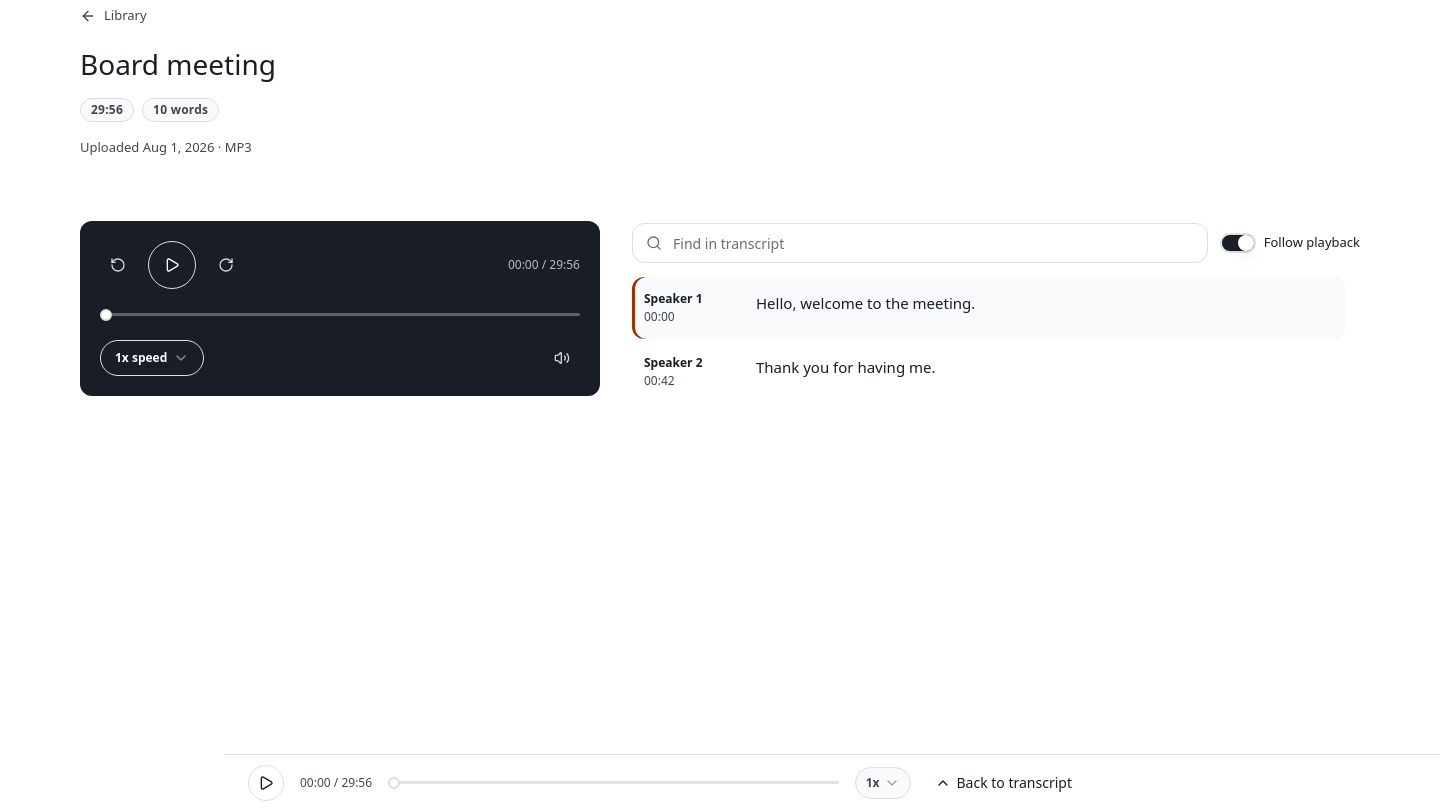
Test case: SessionReaderPage — transcript and transport › reports a seek to the rest of the page even inside the throttle window
Click the button "Speaker 2 00:42 Thank you for having me.": (673, 363) 632,341 -> 1346,403
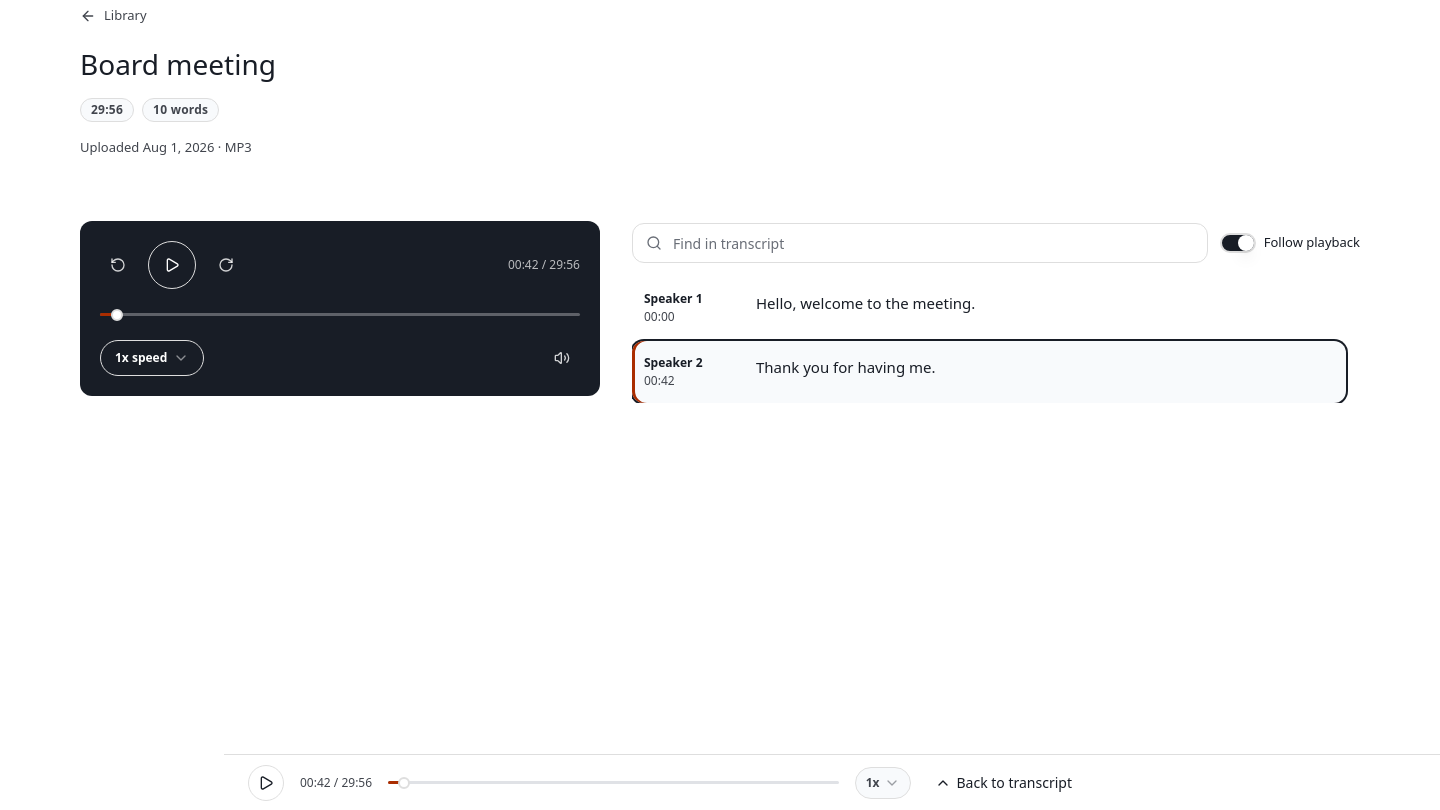
Result: the 2nd text "00:42 / 29:56" is shown at 300,774 -> 372,790
Click the button "Speaker 1 00:00 Hello, welcome to the meeting.": (673, 299) 632,277 -> 1346,339
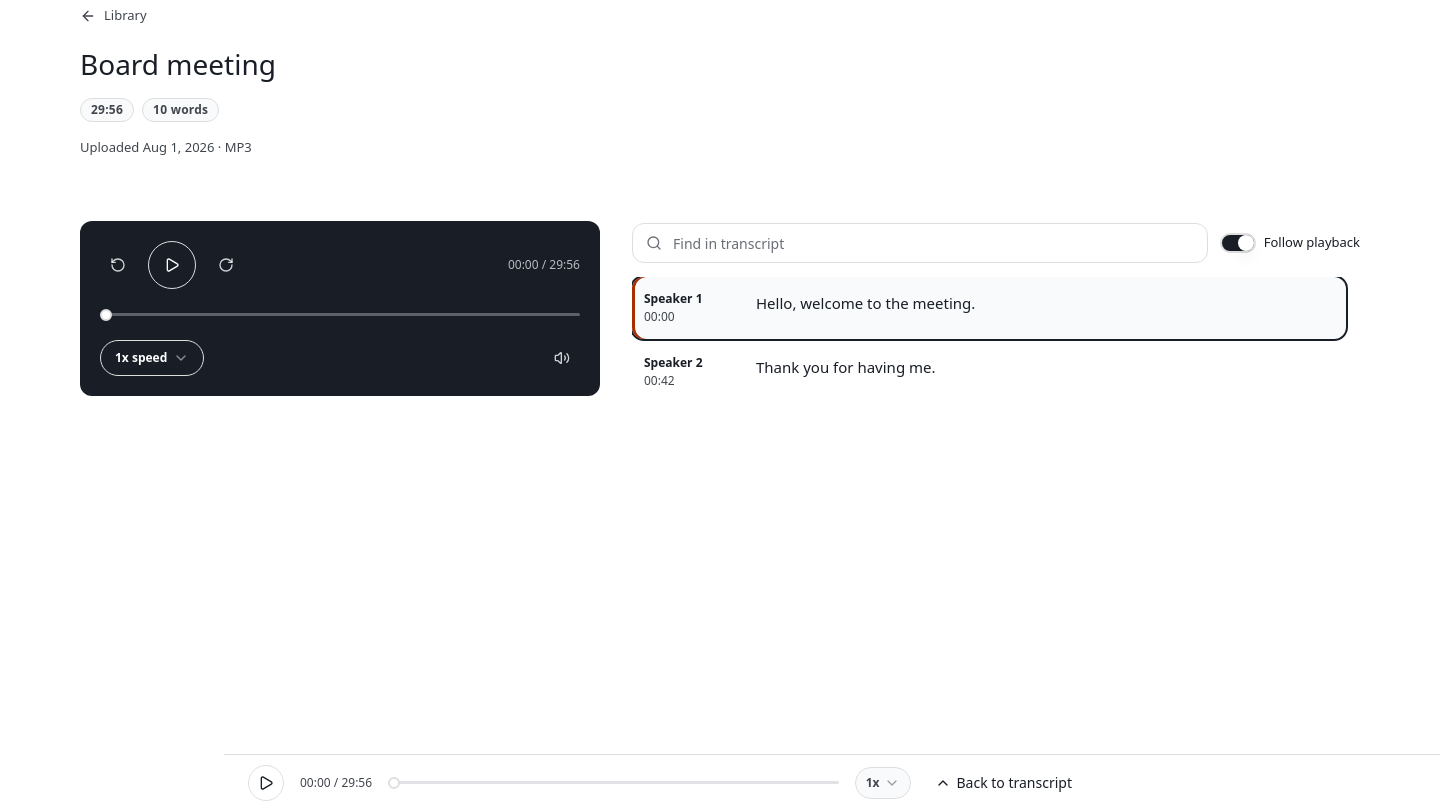
Result: the 2nd text "00:00 / 29:56" is shown at 300,774 -> 372,790
